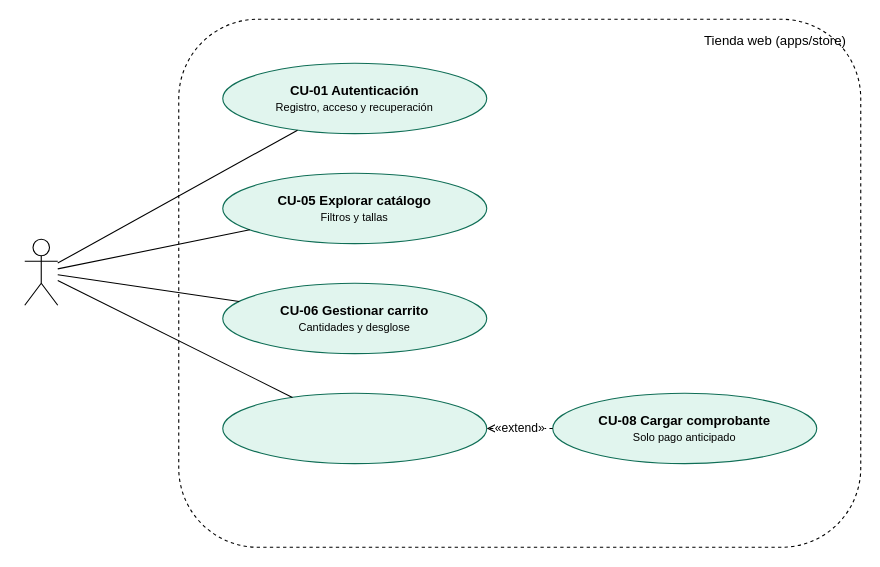
This 880x567 diagram has some shape labels left out. Each missing label, with the centre of its shape:
Cliente: point (41, 271)
CU-07 Confirmar pedido Despacho y pago: point (354, 428)
